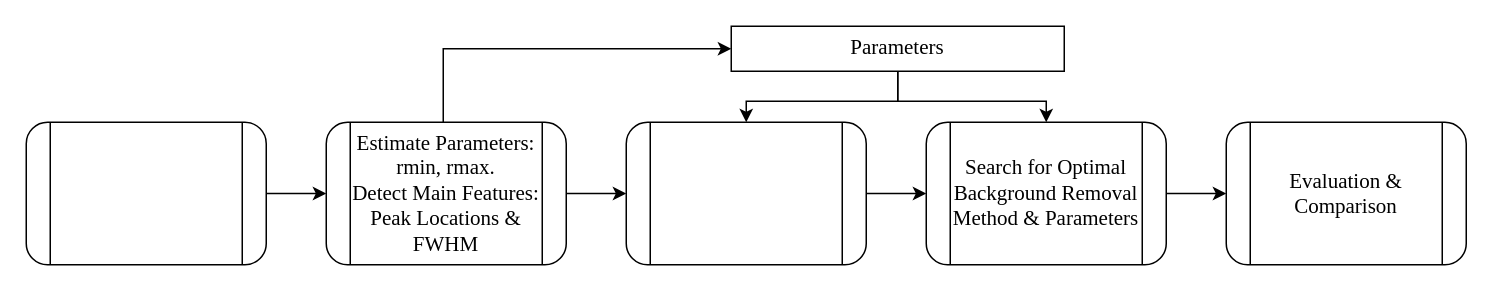
Image size: 1493x291. Some labels were removed from this diagram. The shapes that lost their labels are listed below. From the top down, each one's box as (x1, y1, x2, y2) in pixels, then its label:
(25, 121, 266, 265): Preprocess Diffraction Image: Center, Rotate, Apply Mask, Quadrant Fold
(625, 121, 866, 265): Create Artificial Structure & Masks
